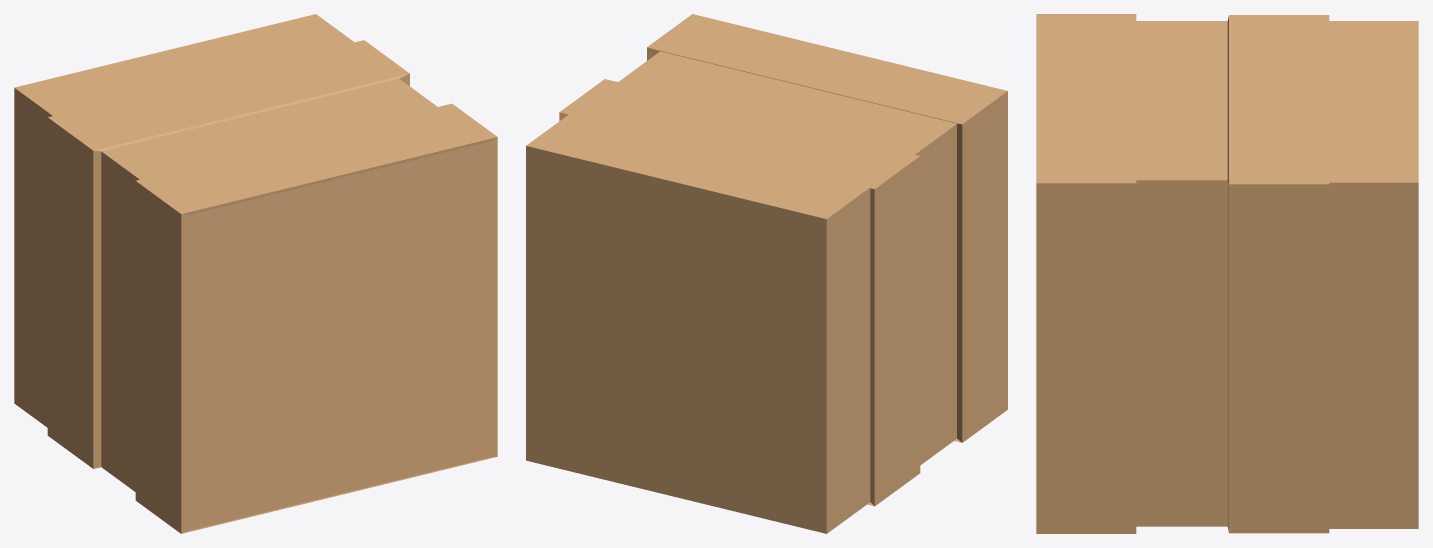
File: cube_modular4_variacion.fbx
3 views of the same model, side by side, from view 1: azimuth 30°, elevation 25°; view 2: azimuth 150°, elevation 25°; view 3: azimuth 270°, elevation 25° (orthographic). The views are drawn at different scales.
Parts seen in each view (by area): view 1: cube_new_2; view 2: cube_new_2; view 3: cube_new_2.
Boxes of the visible parts, x1,y1,x2,y2 form: cube_new_2: (14, 14, 497, 533); cube_new_2: (526, 14, 1007, 533); cube_new_2: (1036, 14, 1418, 533).
Bounding box in the file's own units: 420 × 405 × 400.
